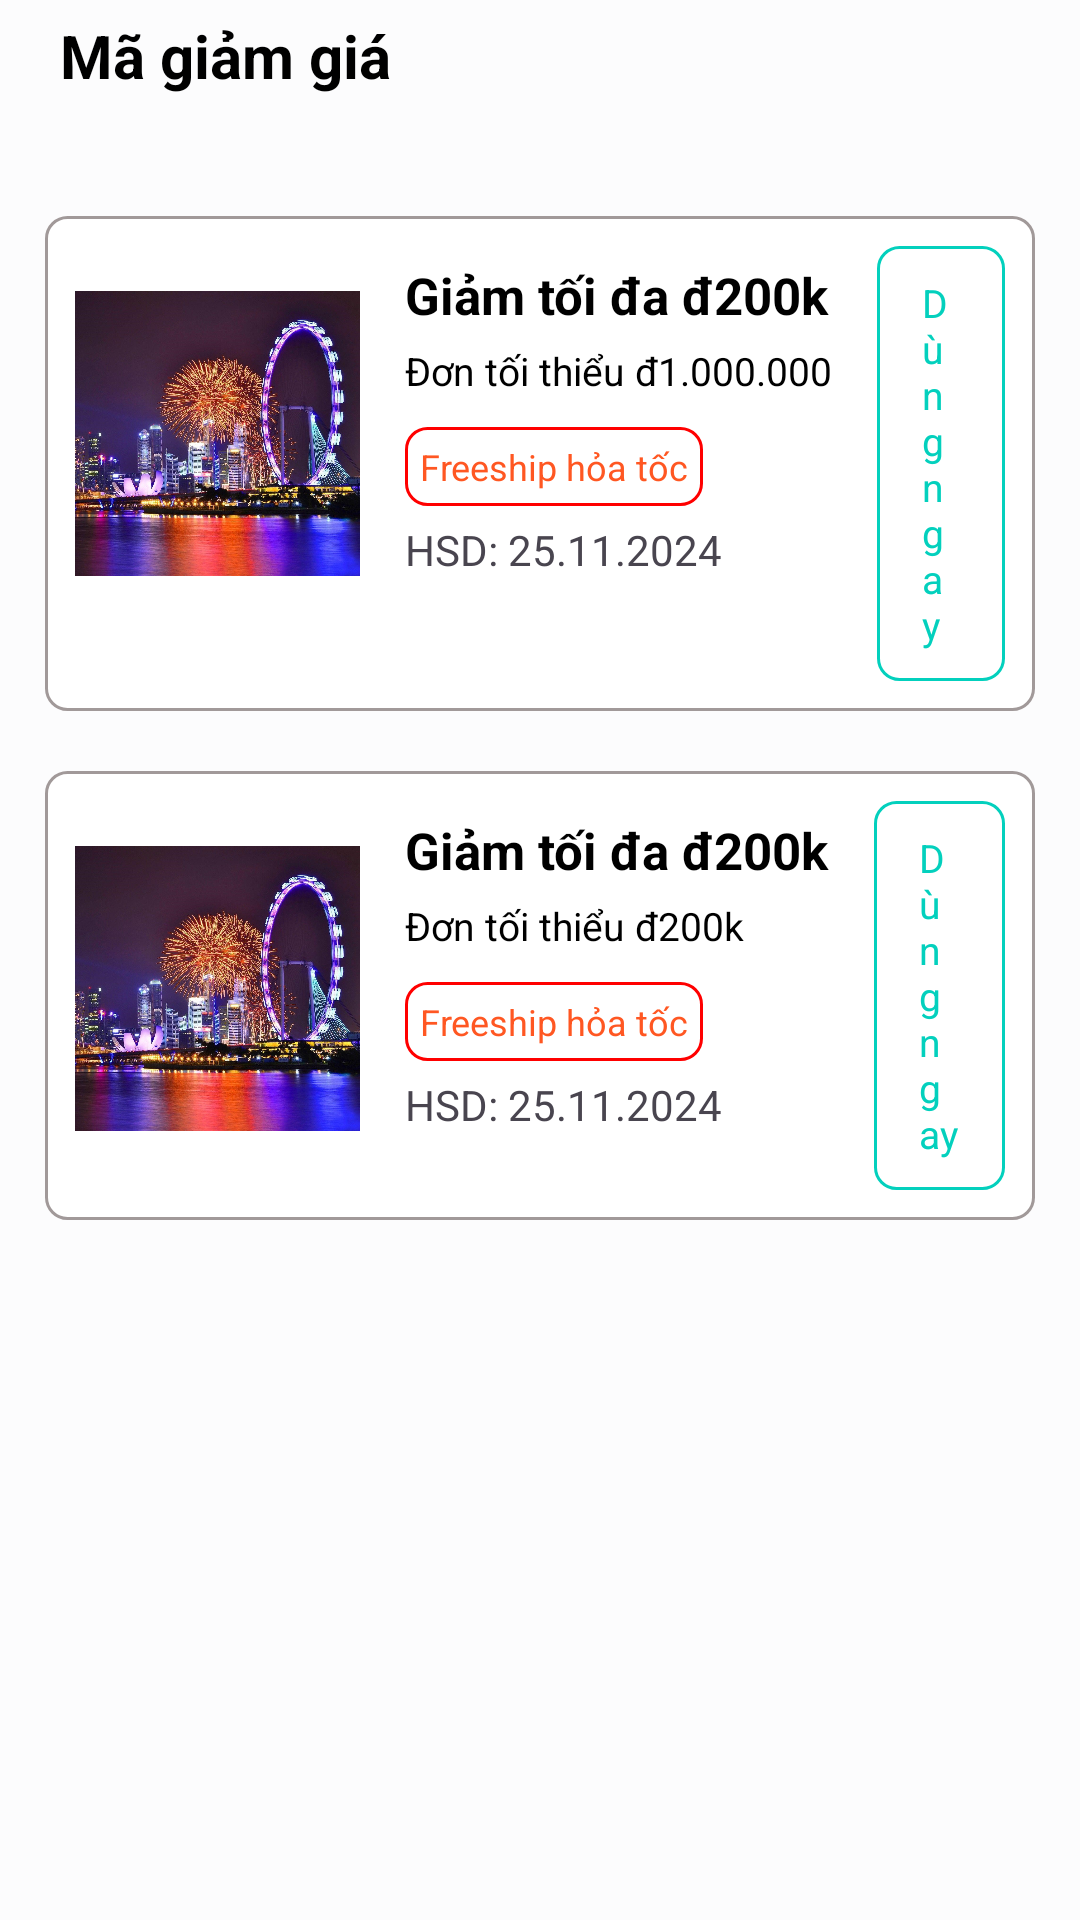

Named icons in this screenshot (1080 x 1920) and their bounding boxes, Rect(x1, y1, x2, y2):
anh: Rect(75, 291, 360, 576), Rect(75, 846, 360, 1131)
